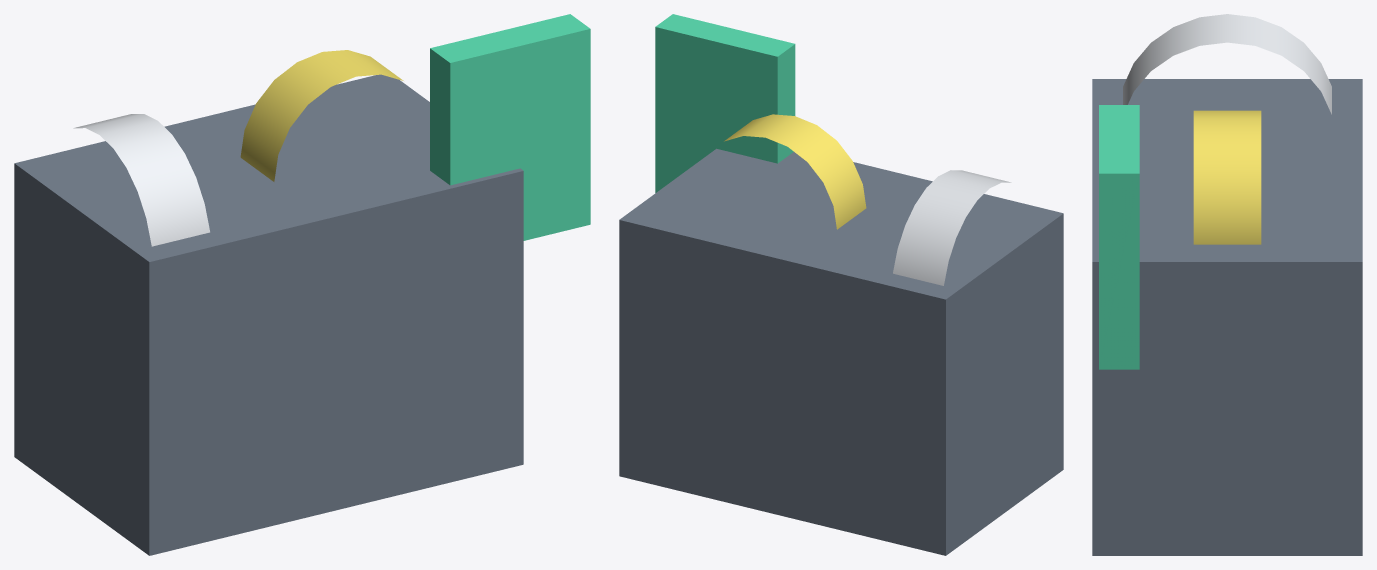
Rendered from cnc_part_programming_gcode.glb.
3 renders of one model, left to right at view 1: azimuth 30°, elevation 25°; view 2: azimuth 150°, elevation 25°; view 3: azimuth 270°, elevation 25°, orthographic. The views are drawn at different scales.
Visible parts, largest first — view 1: CNCSlantBedLatheCarriage, FanucCNCControlPanelUnit, ThreeJawPowerChukSpindle, EightStationAutomaticTurret; view 2: CNCSlantBedLatheCarriage, FanucCNCControlPanelUnit, ThreeJawPowerChukSpindle, EightStationAutomaticTurret; view 3: CNCSlantBedLatheCarriage, FanucCNCControlPanelUnit, EightStationAutomaticTurret, ThreeJawPowerChukSpindle.
Part boxes in pixels (x1,y1,x2,y2): CNCSlantBedLatheCarriage: (14, 74, 523, 555); FanucCNCControlPanelUnit: (430, 14, 590, 240); ThreeJawPowerChukSpindle: (73, 114, 209, 246); EightStationAutomaticTurret: (240, 50, 403, 181); CNCSlantBedLatheCarriage: (619, 148, 1063, 555); FanucCNCControlPanelUnit: (655, 14, 795, 192); ThreeJawPowerChukSpindle: (893, 170, 1011, 285); EightStationAutomaticTurret: (724, 114, 866, 229); CNCSlantBedLatheCarriage: (1092, 79, 1362, 555); FanucCNCControlPanelUnit: (1099, 105, 1139, 369); EightStationAutomaticTurret: (1193, 110, 1261, 244); ThreeJawPowerChukSpindle: (1123, 14, 1331, 114).
Size of the model in its own units: 1.9 by 1.7 by 1.
